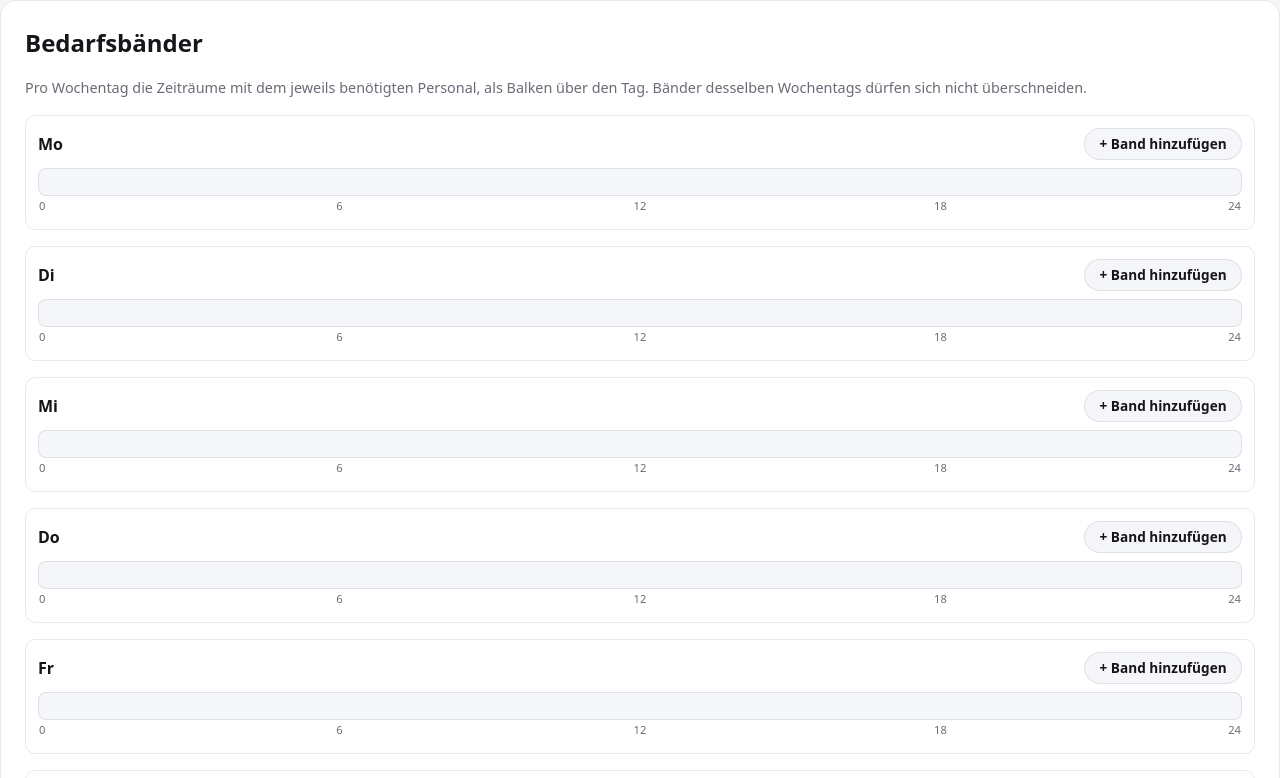
Test: CoverageEditor band list editing › adds a band row and removes it again
Click the button "+ Band hinzufügen" in the row of "Mo". click: (1163, 144)
box: [1084,128,1242,160]
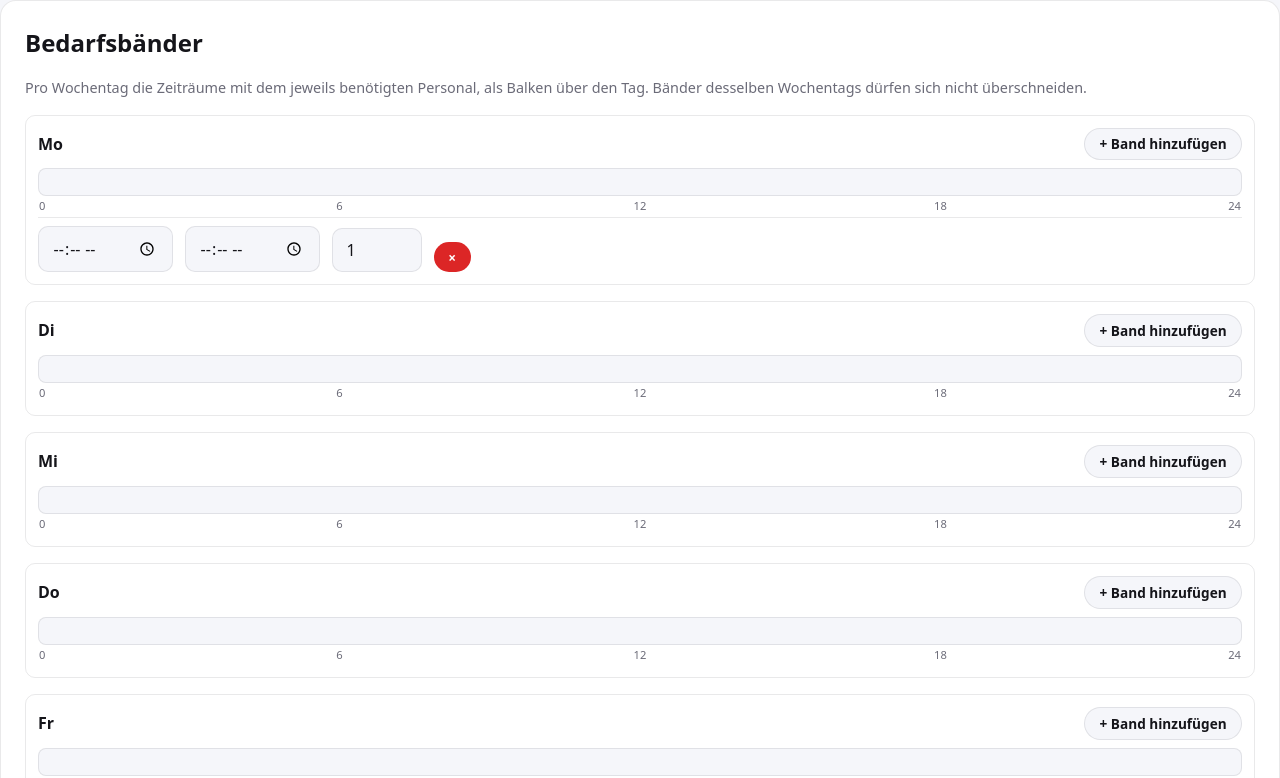
Result: the number of time fields named "Von" is 1 at [38,226,173,272]
Click the button named "Dieses Band entfernen". click: (452, 257)
box: [434,242,471,272]
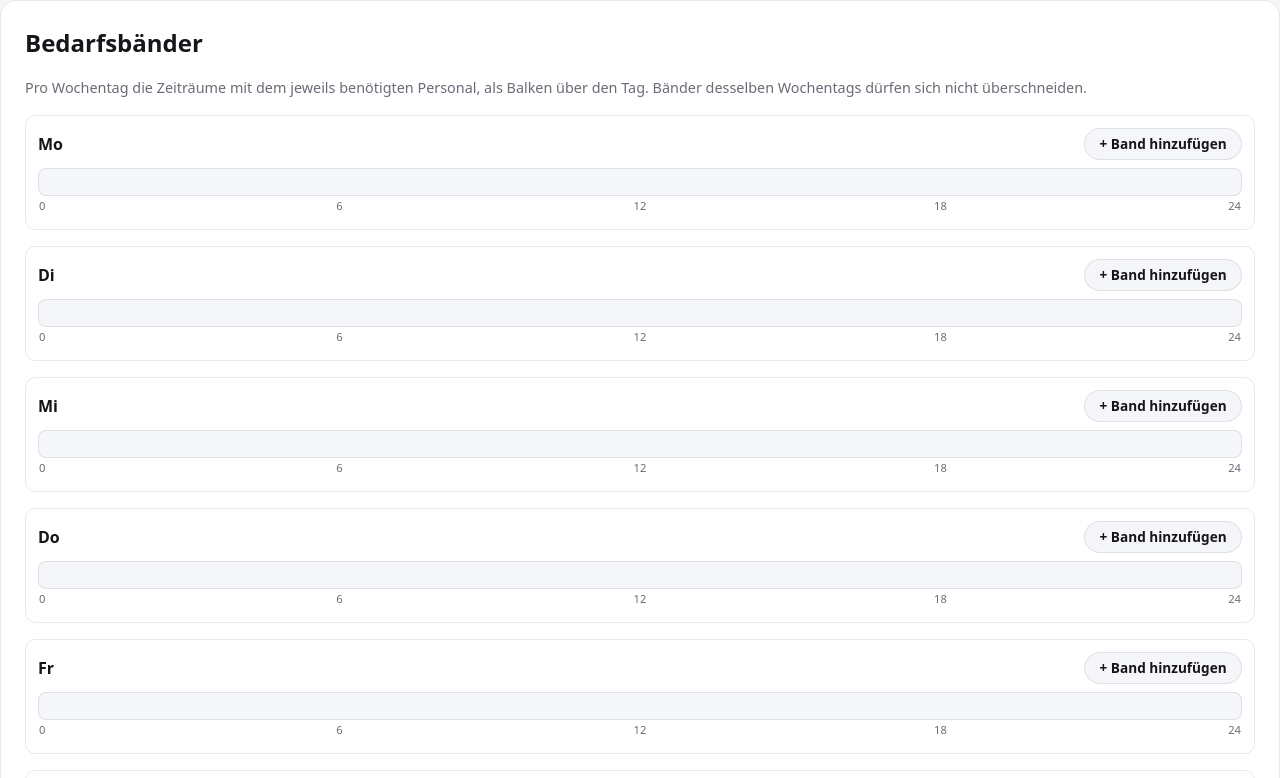
Result: the time field labelled "Von" is gone
